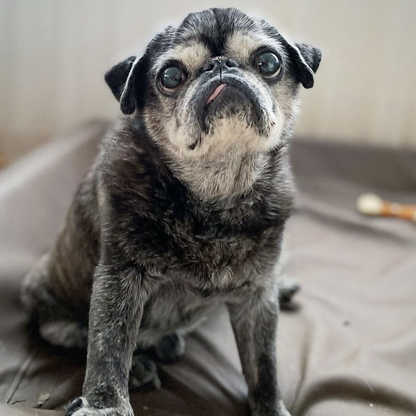Pug: (17, 1, 325, 416)
